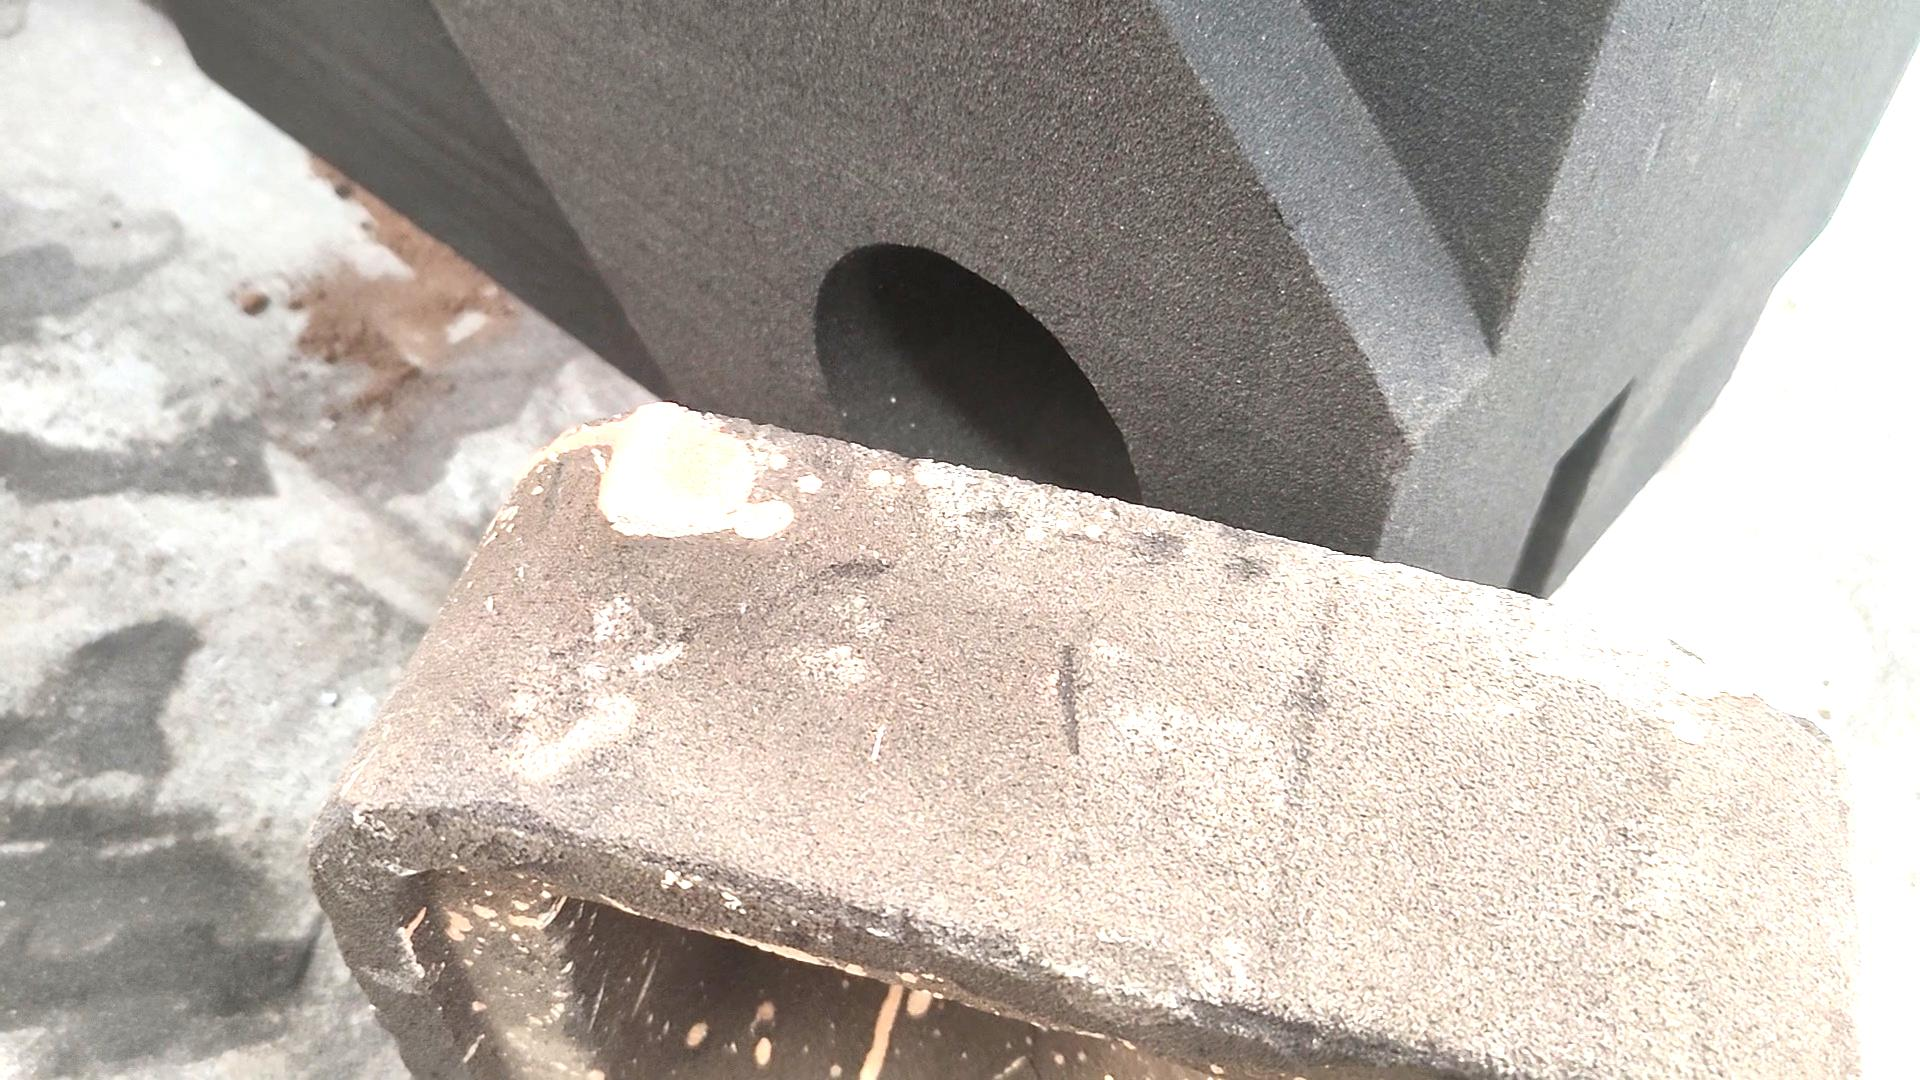pouring hole: (812, 243, 1145, 567)
